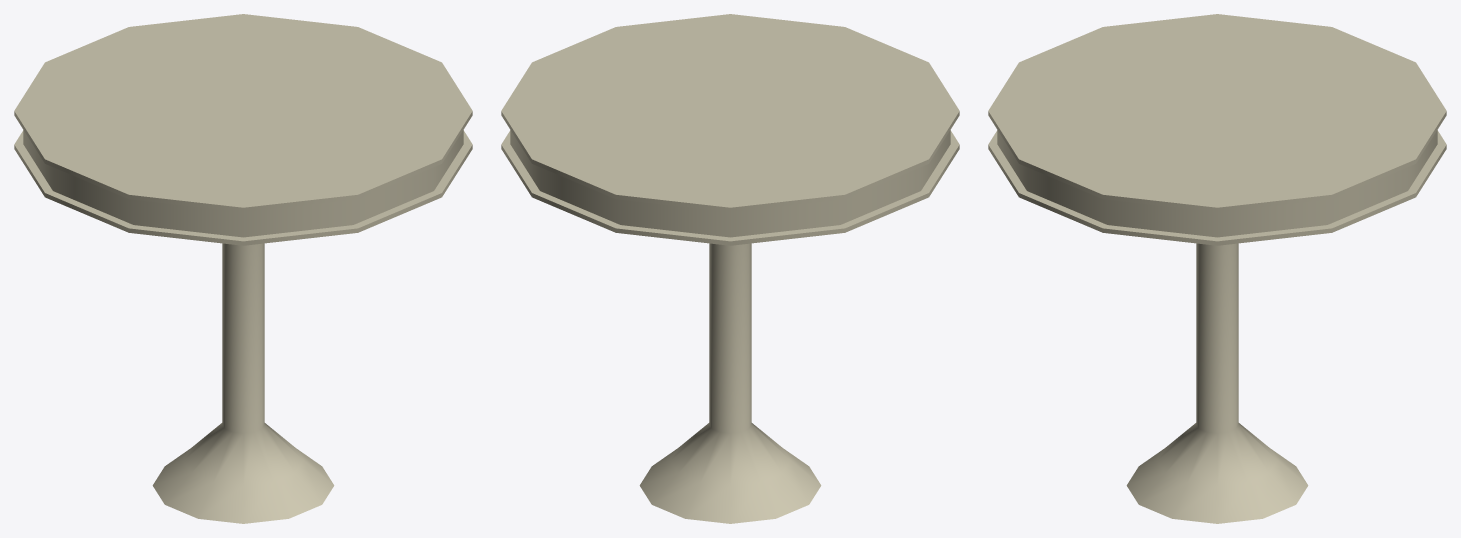
Rendered from SideTable.fbx.
3 views of the same model, side by side, from view 1: azimuth 30°, elevation 25°; view 2: azimuth 150°, elevation 25°; view 3: azimuth 270°, elevation 25° (orthographic).
Parts seen in each view (by area): view 1: SideTable; view 2: SideTable; view 3: SideTable.
Boxes of the visible parts, box(x1,y1,x2,y2) form: SideTable: box(14, 14, 472, 523); SideTable: box(501, 14, 959, 523); SideTable: box(988, 14, 1446, 523).
Size of the model in its own units: 0.9563 by 0.8623 by 0.9563.
